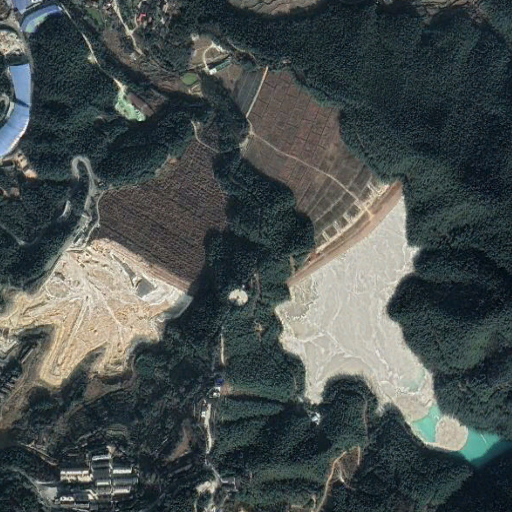tp: (232, 65, 507, 463), (12, 124, 225, 396)
